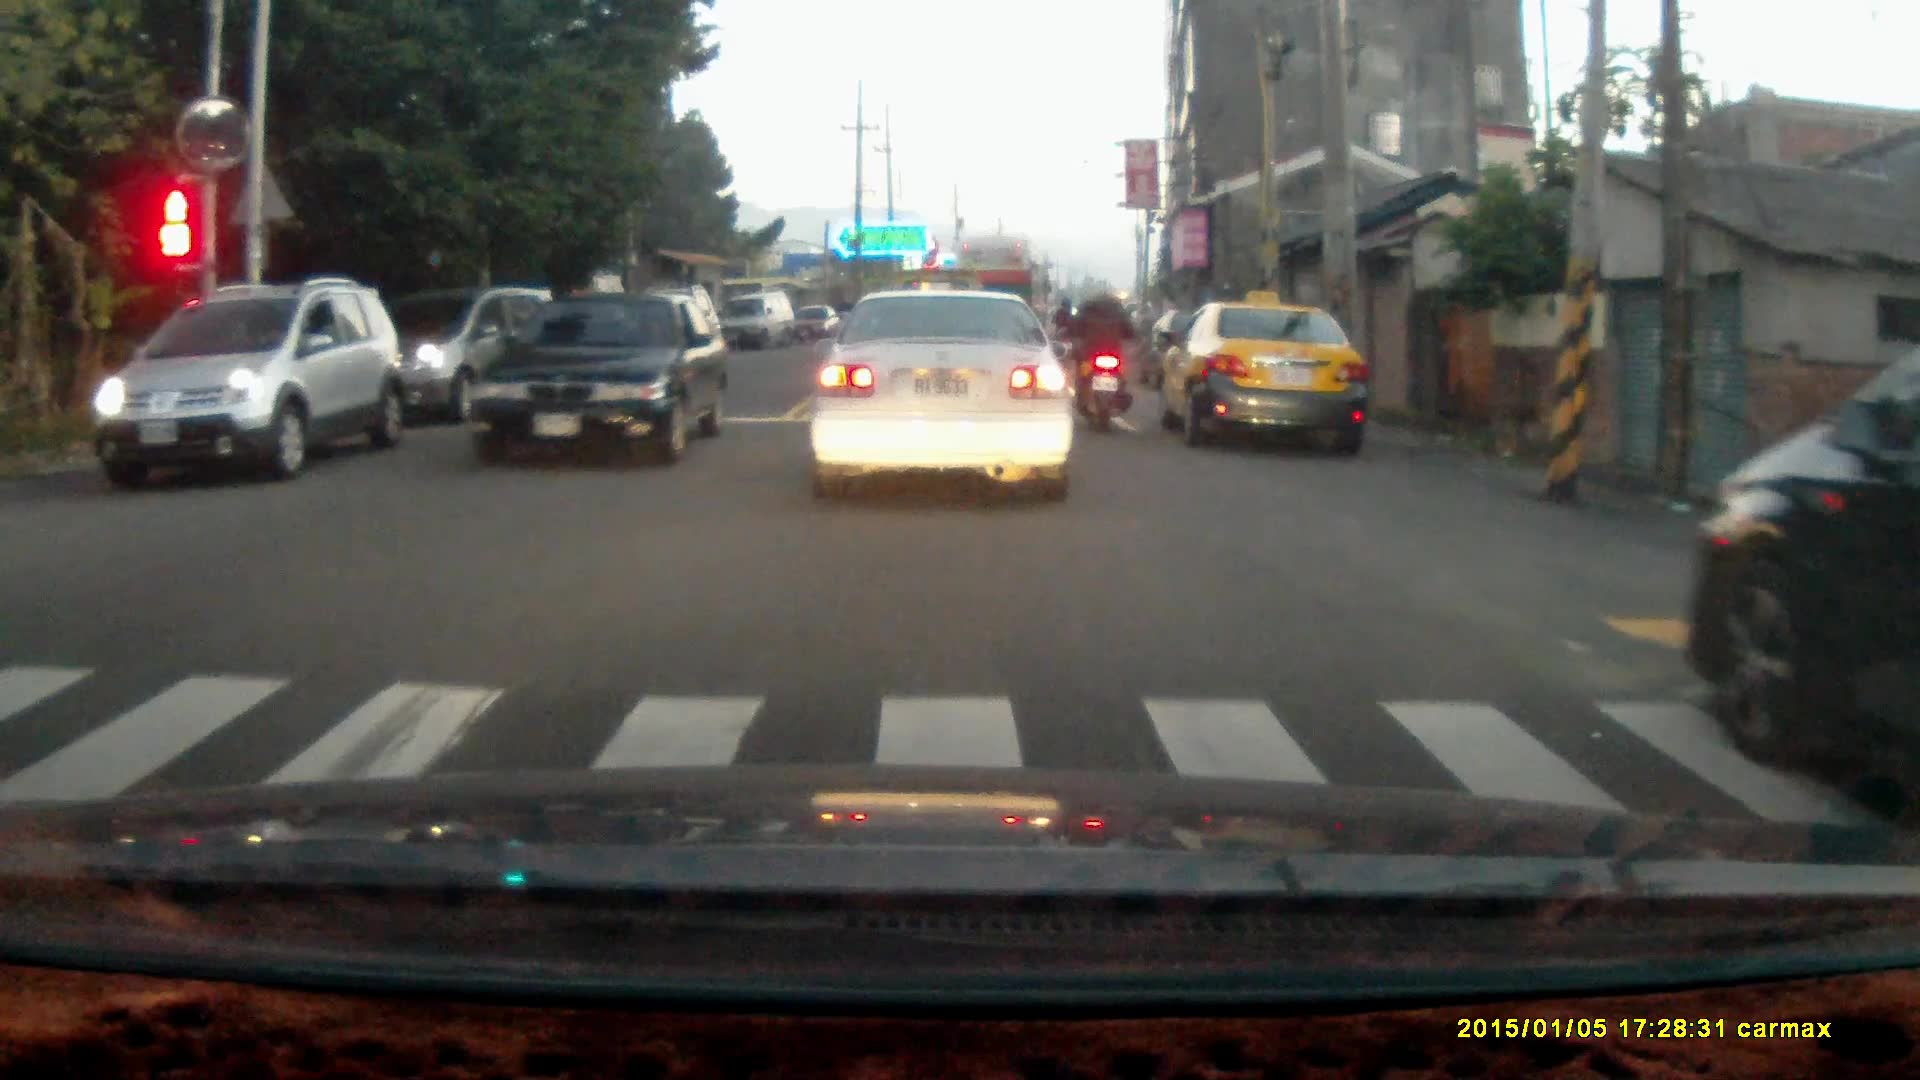rider: (1069, 275, 1139, 432)
vehicle: (1691, 345, 1920, 793), (93, 280, 398, 488), (810, 286, 1082, 502), (469, 286, 730, 468), (1164, 301, 1369, 452), (723, 288, 794, 356)
